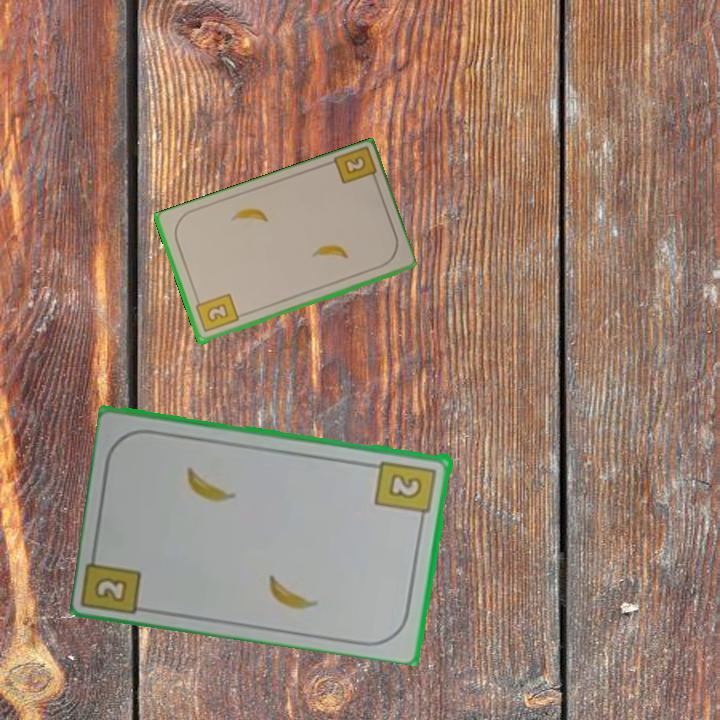2b: (373, 457, 439, 525), (329, 145, 381, 188), (192, 290, 241, 335), (90, 573, 131, 605)
